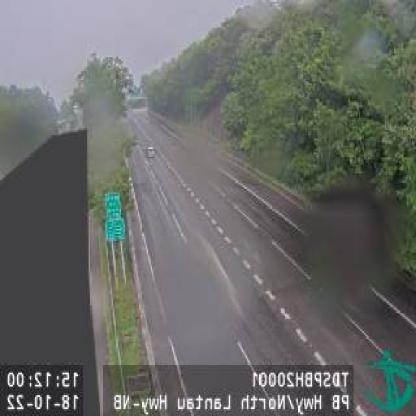Car: (146, 144, 157, 159)
